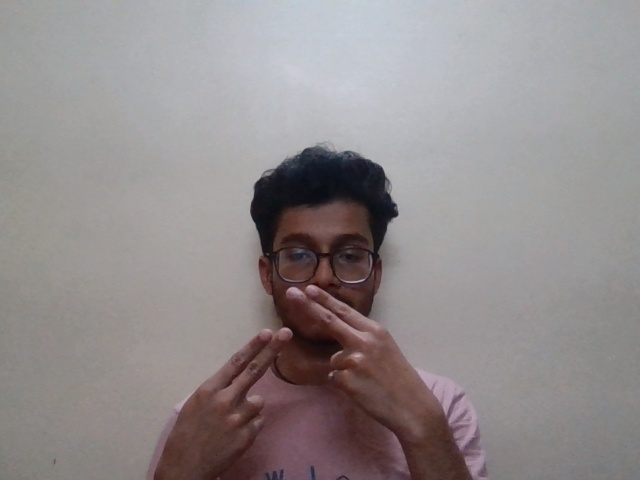my-name-is: (159, 274, 444, 448)
